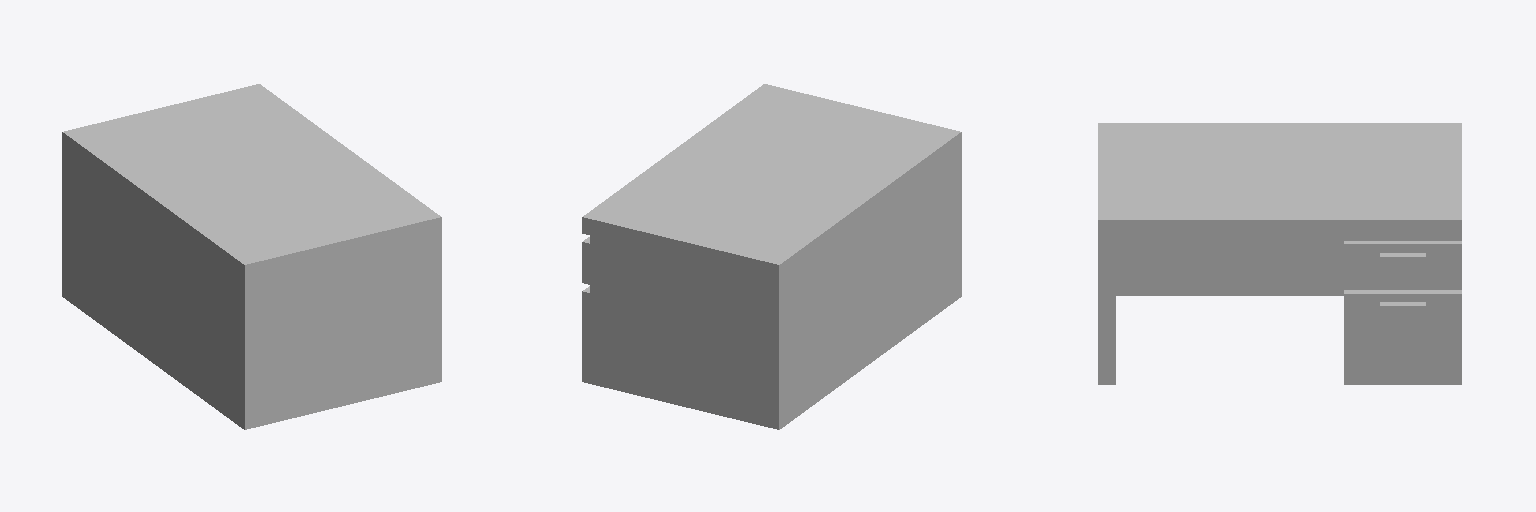
Rendered from table.obj.
3 views of the same model, side by side, from view 1: azimuth 30°, elevation 25°; view 2: azimuth 150°, elevation 25°; view 3: azimuth 270°, elevation 25° (orthographic).
Parts seen in each view (by area): view 1: object 1; view 2: object 1; view 3: object 1.
Part boxes in pixels (left/top/right/bottom): object 1: left=62, top=84, right=441, bottom=429; object 1: left=582, top=84, right=961, bottom=429; object 1: left=1098, top=123, right=1461, bottom=384.
Bounding box in the file's own units: 2.6 × 2 × 4.